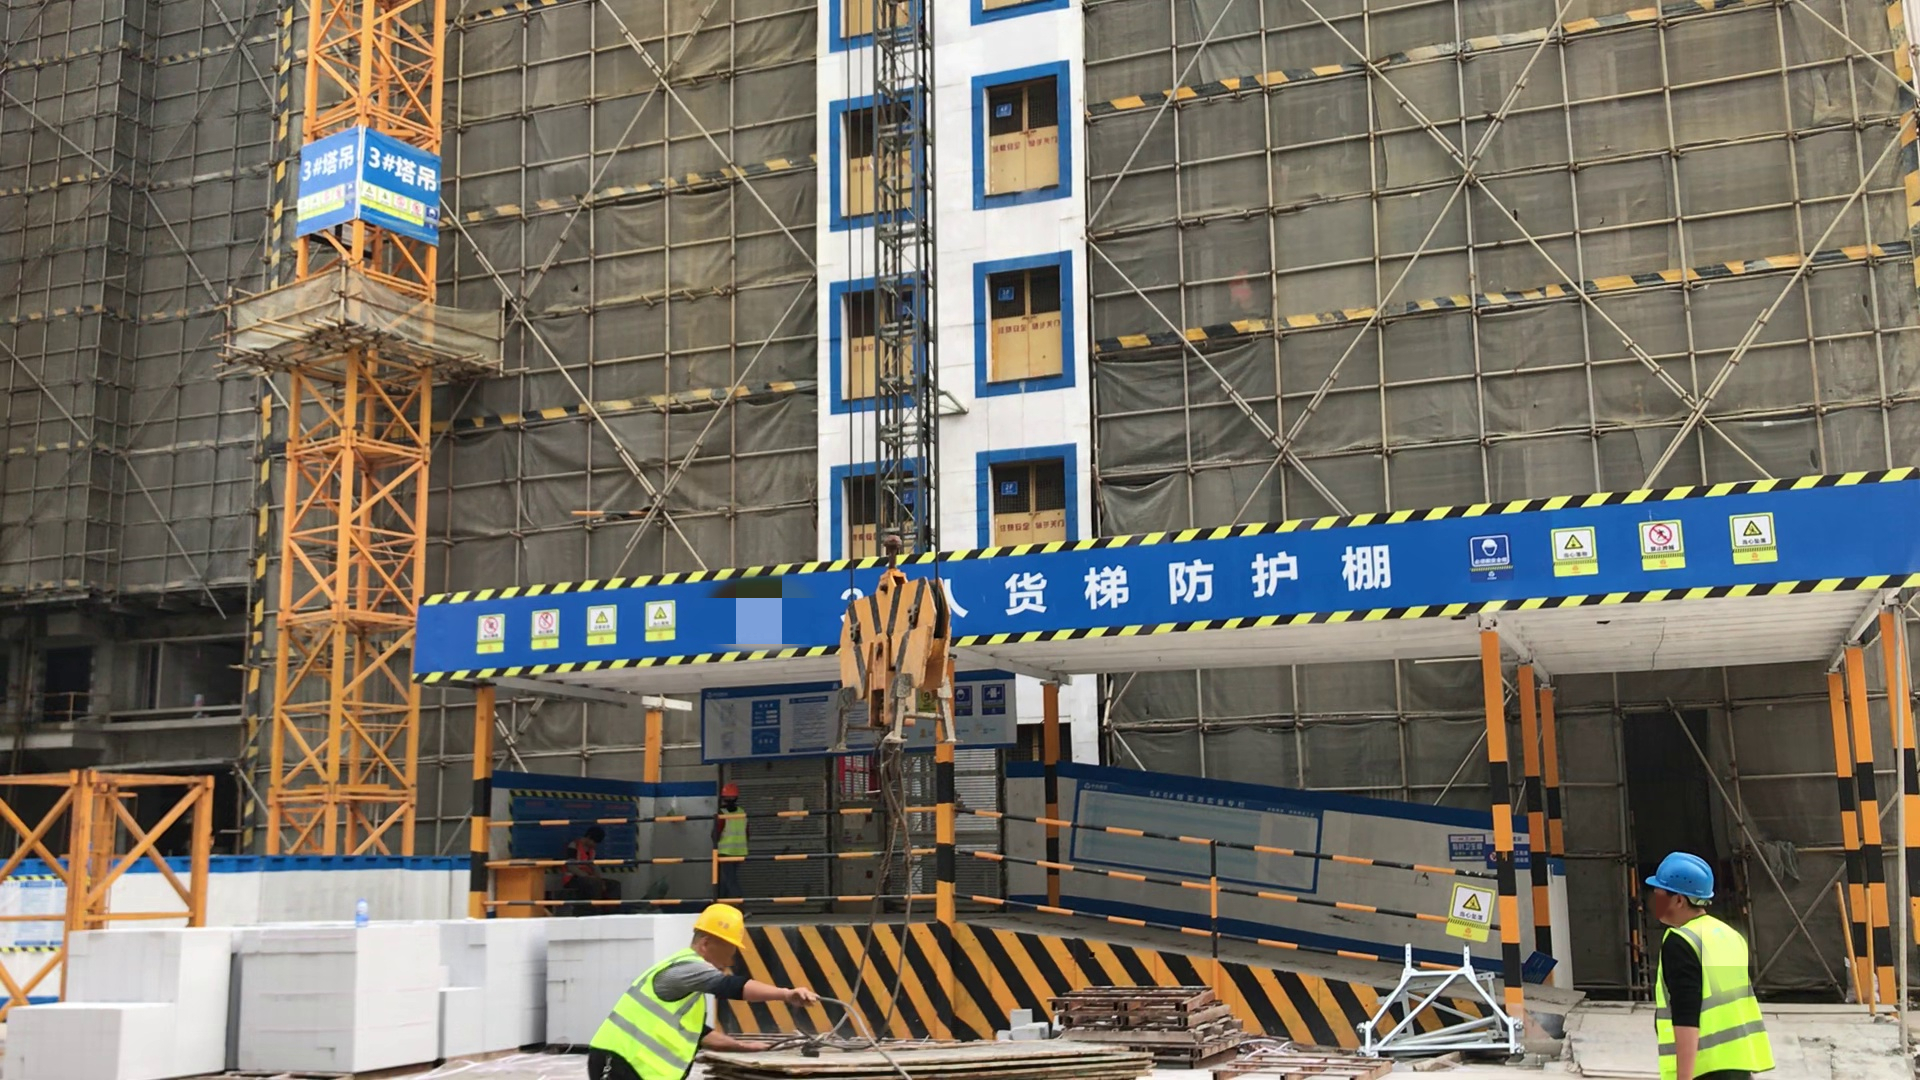board: (690, 1040, 1158, 1078)
brick: (10, 926, 549, 1080), (549, 913, 691, 1042)
ebox: (492, 859, 548, 920)
helmet: (1648, 850, 1716, 906), (695, 903, 752, 955), (719, 781, 742, 798)
hook: (839, 536, 960, 808)
person: (1640, 830, 1773, 1080), (584, 901, 761, 1080), (560, 823, 627, 900), (712, 778, 749, 905)
slogan: (991, 543, 1394, 619), (1470, 512, 1786, 580), (293, 130, 446, 243), (471, 597, 679, 656), (1441, 876, 1498, 947)
vest: (1649, 918, 1773, 1080), (594, 950, 711, 1079), (720, 807, 748, 859), (568, 838, 598, 877)
